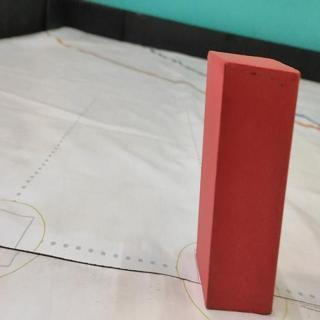redbox: (196, 49, 300, 315)
